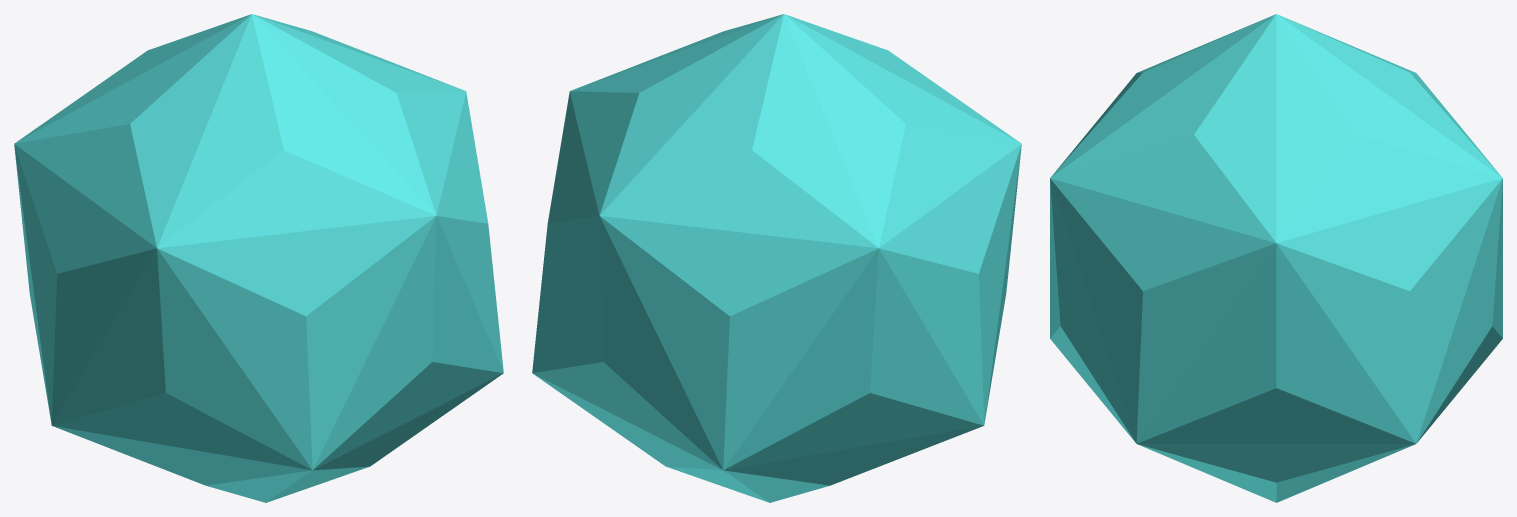
Rendered from icosahedron2.glb.
3 renders of one model, left to right at view 1: azimuth 30°, elevation 25°; view 2: azimuth 150°, elevation 25°; view 3: azimuth 270°, elevation 25°, orthographic. The views are drawn at different scales.
Visible parts, largest first — view 1: Solid.001; view 2: Solid.001; view 3: Solid.001.
Part boxes in pixels (<box>): Solid.001: <box>14,14,503,502</box>; Solid.001: <box>532,14,1021,502</box>; Solid.001: <box>1050,14,1502,502</box>.
Bounding box in the file's own units: 1.76 × 2 × 1.7.
1 material, 1 textured.
